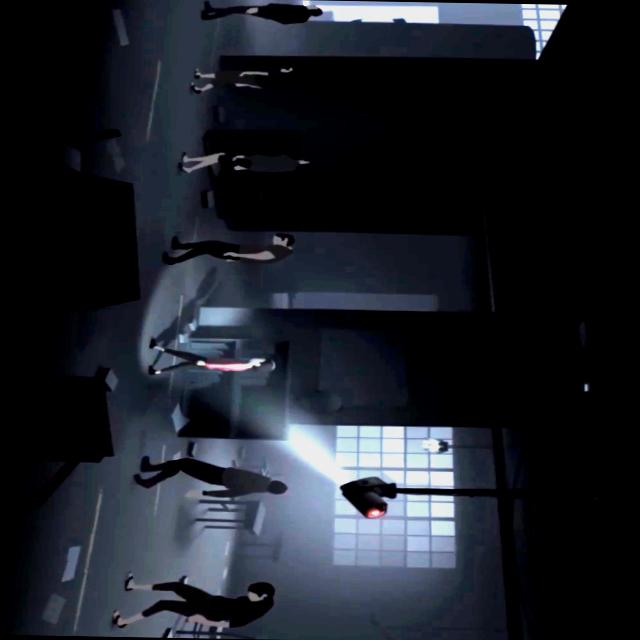boy: (144, 341, 277, 376)
zombie: (112, 572, 275, 632), (132, 454, 286, 499), (165, 232, 292, 264), (176, 149, 311, 176), (188, 63, 297, 92), (199, 2, 319, 24)
